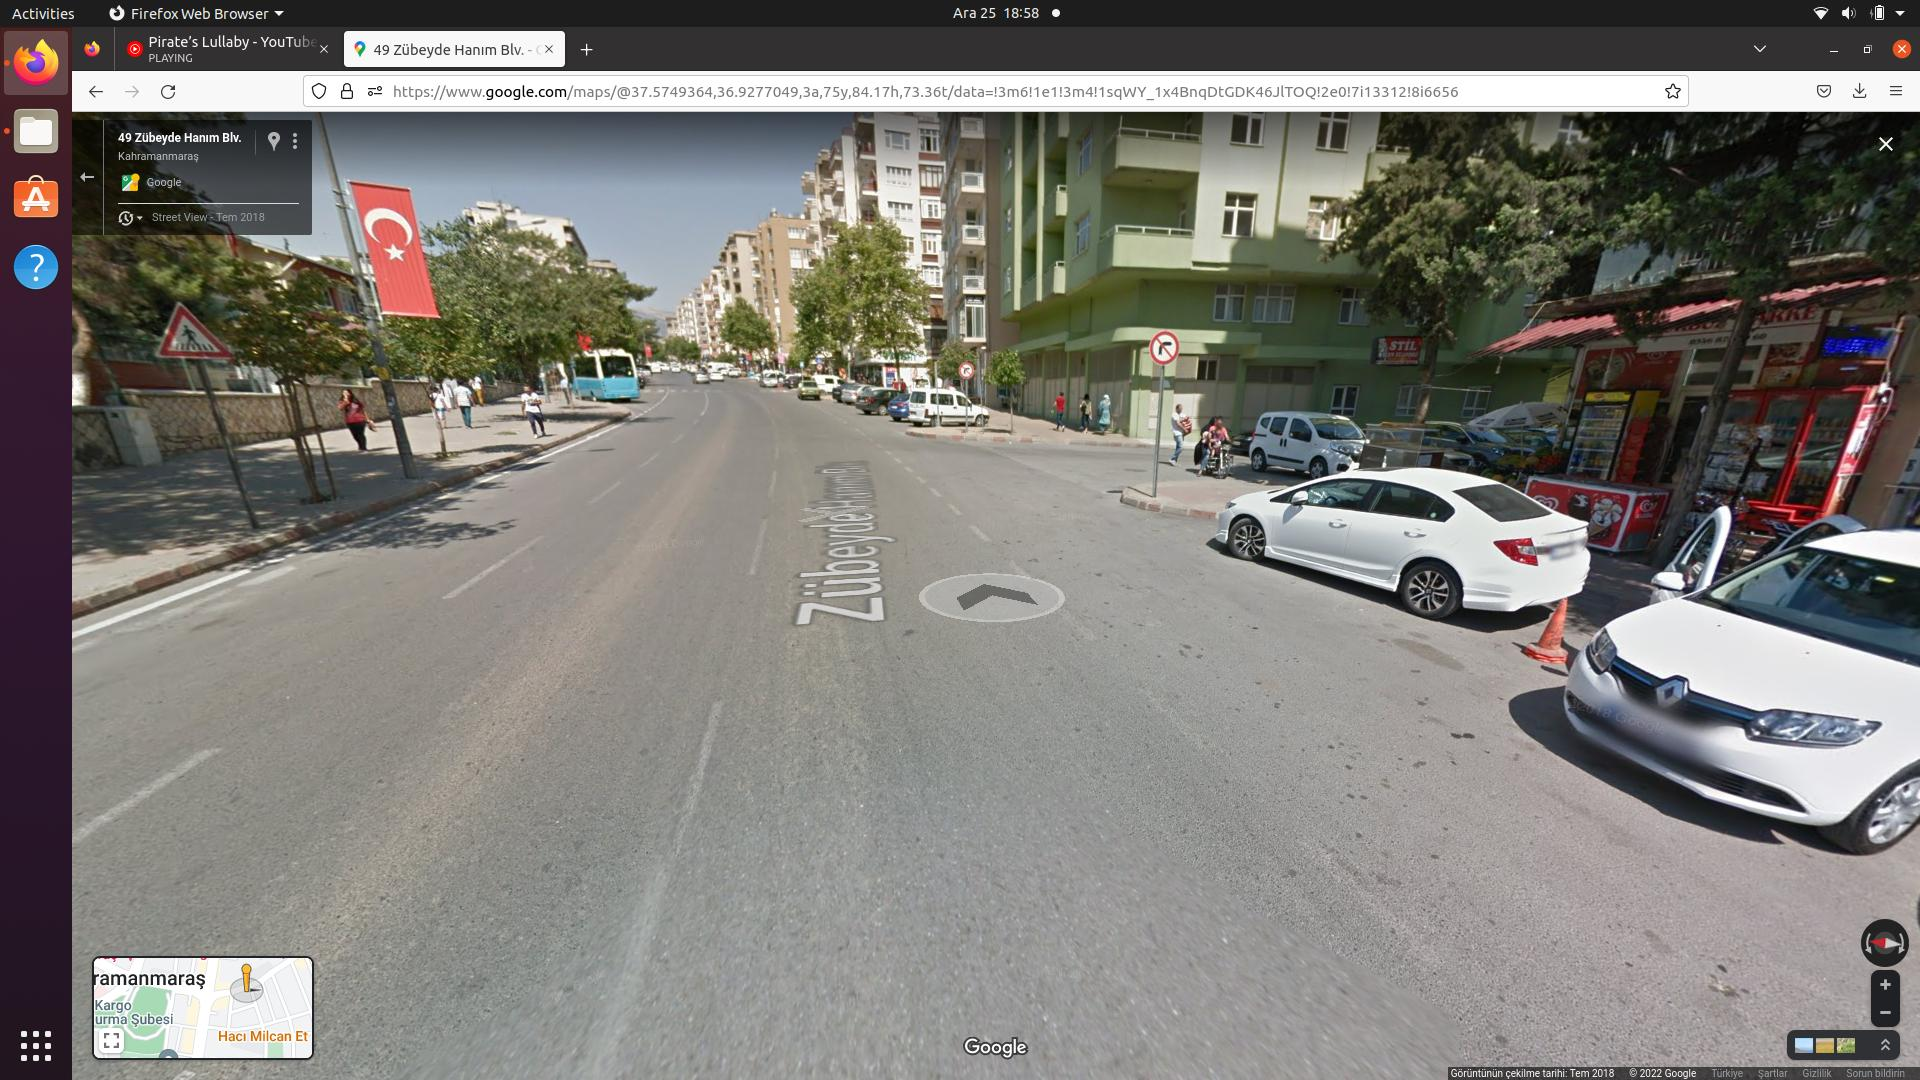rightturnsareforbidden: (1147, 331, 1183, 367), (957, 361, 977, 382)
